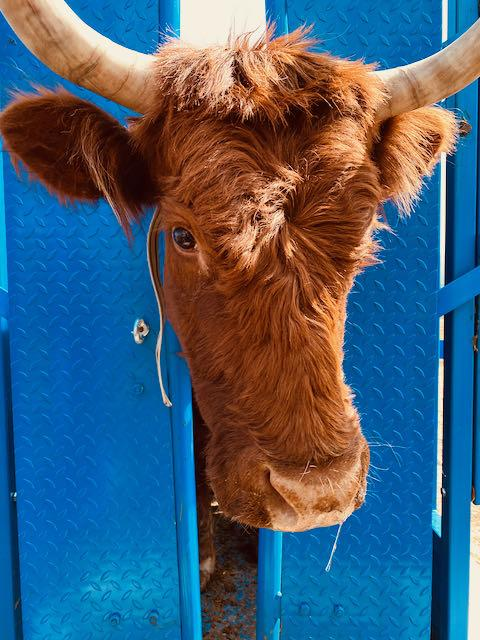muzzles: (218, 446, 380, 538)
